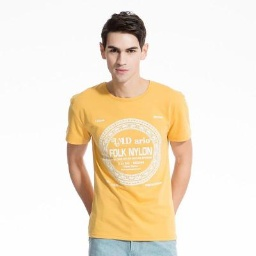face: (99, 12, 148, 82)
